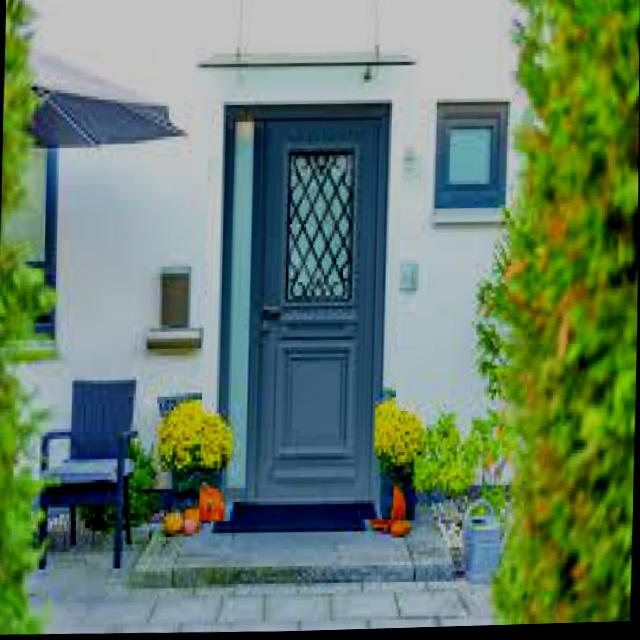close: (199, 88, 404, 527)
